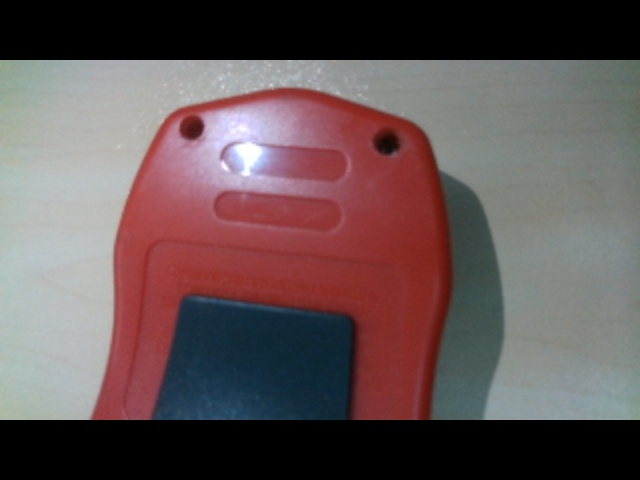Screw holes: (372, 125, 404, 157), (178, 113, 206, 140)
